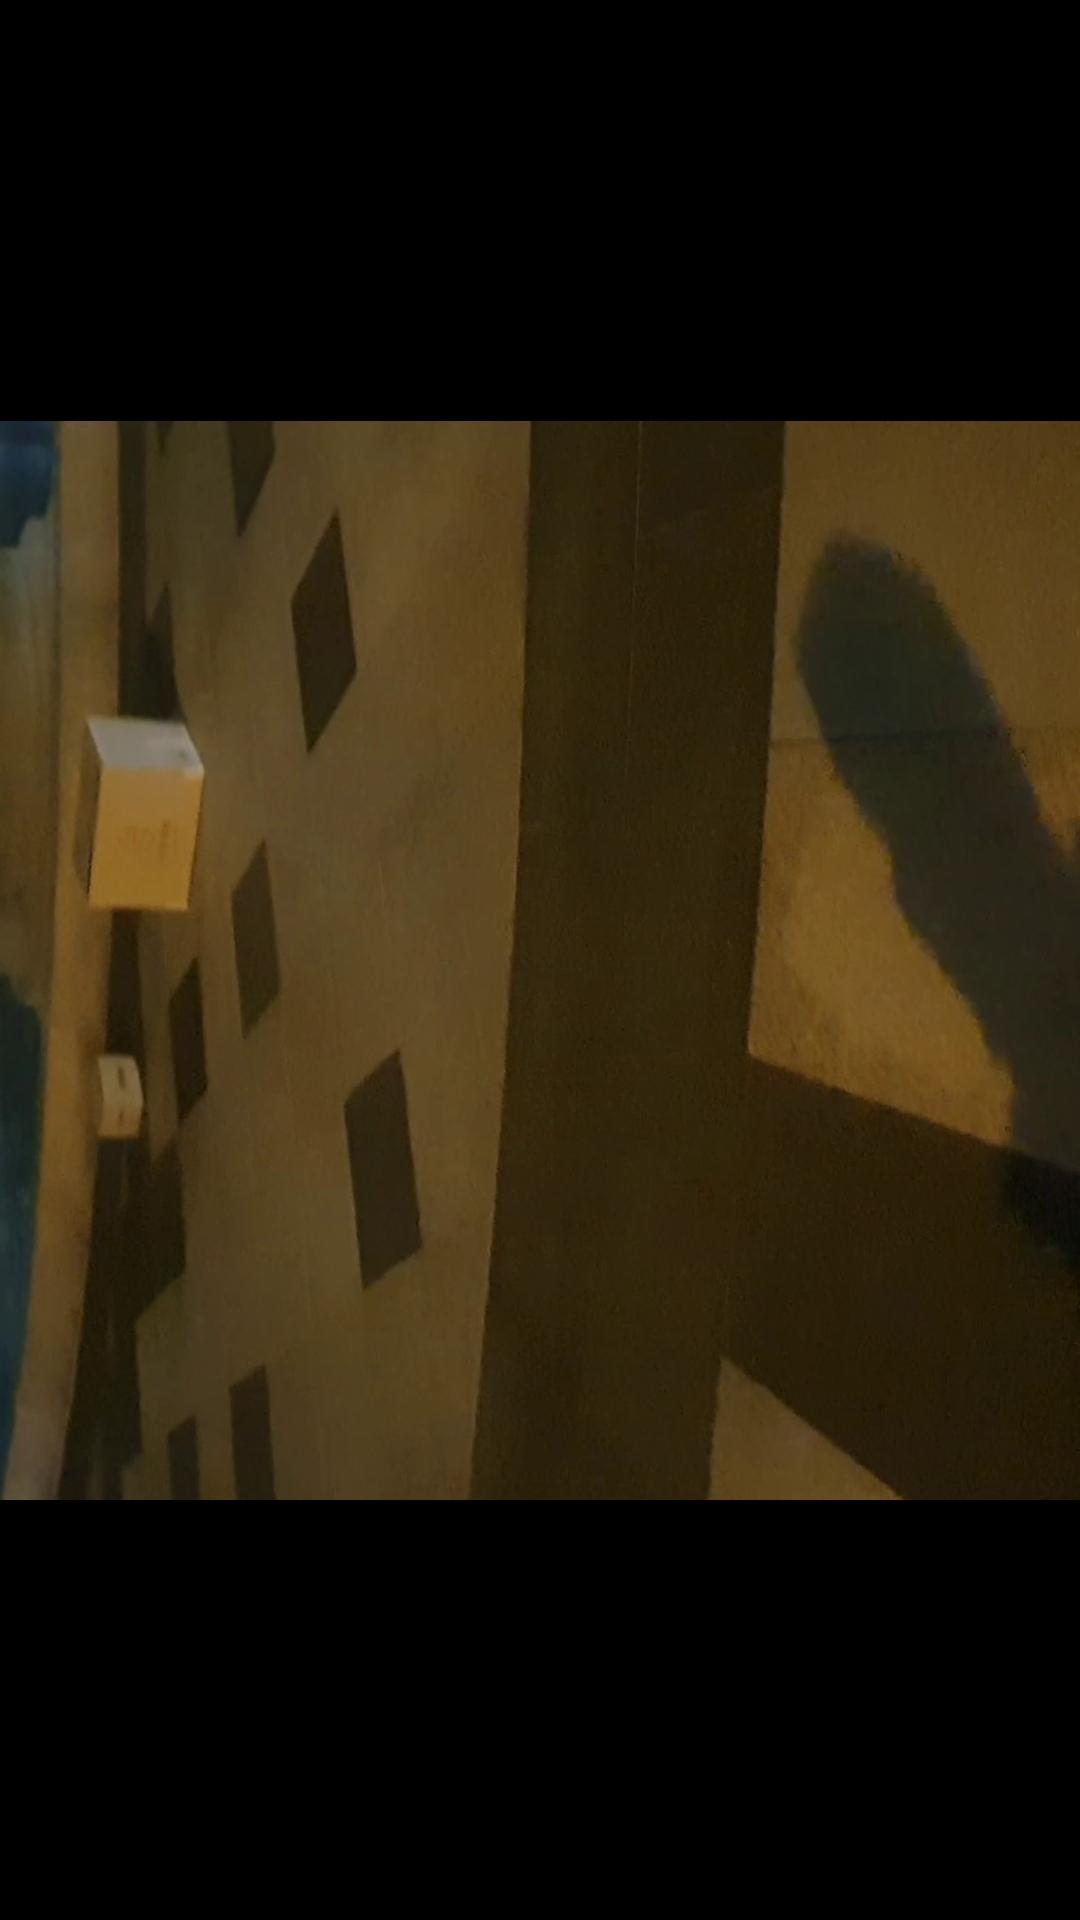Box: (50, 1035, 146, 1129)
